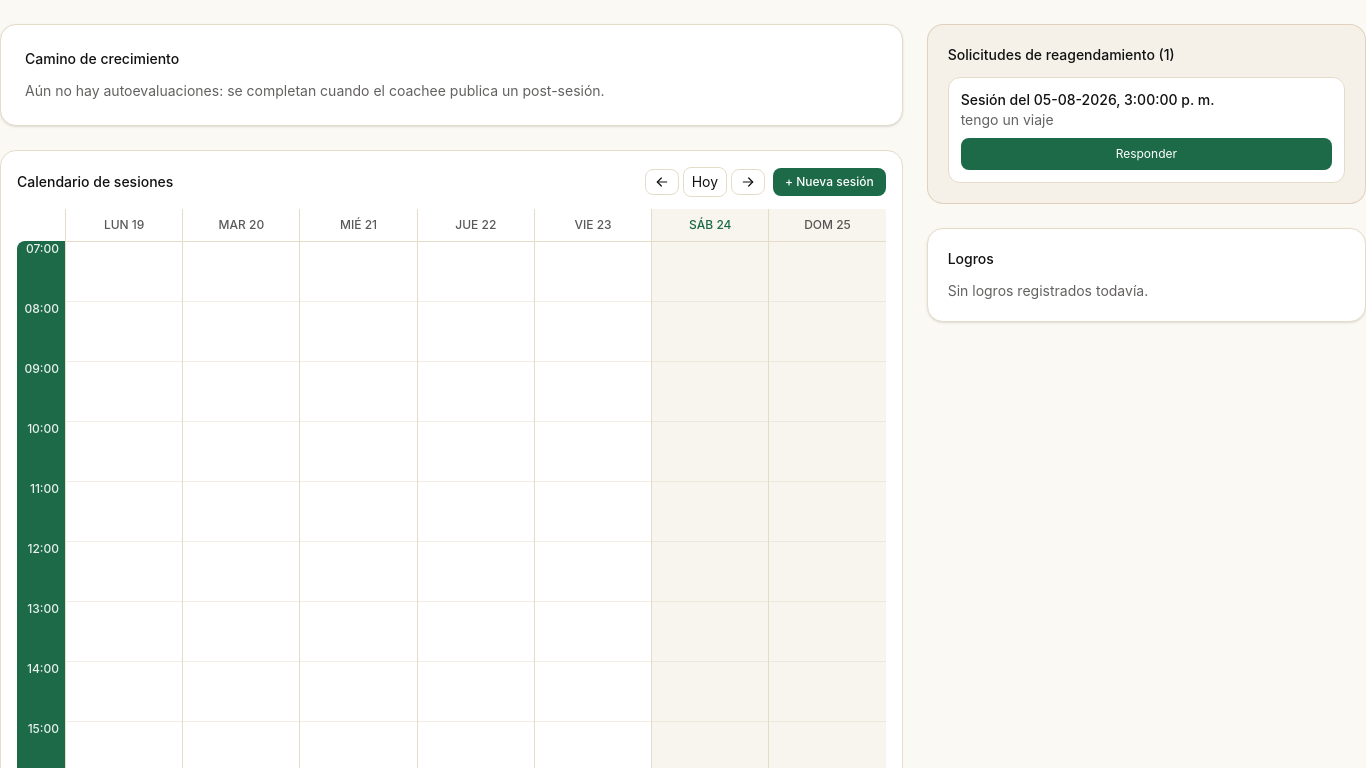
Test case: SesionesTab — solicitudes de reagendamiento › responds to a request and removes it from the list
The width and height of the screenshot is (1366, 768).
Click the button "Responder". click: (1146, 154)
box: [961,138,1332,170]
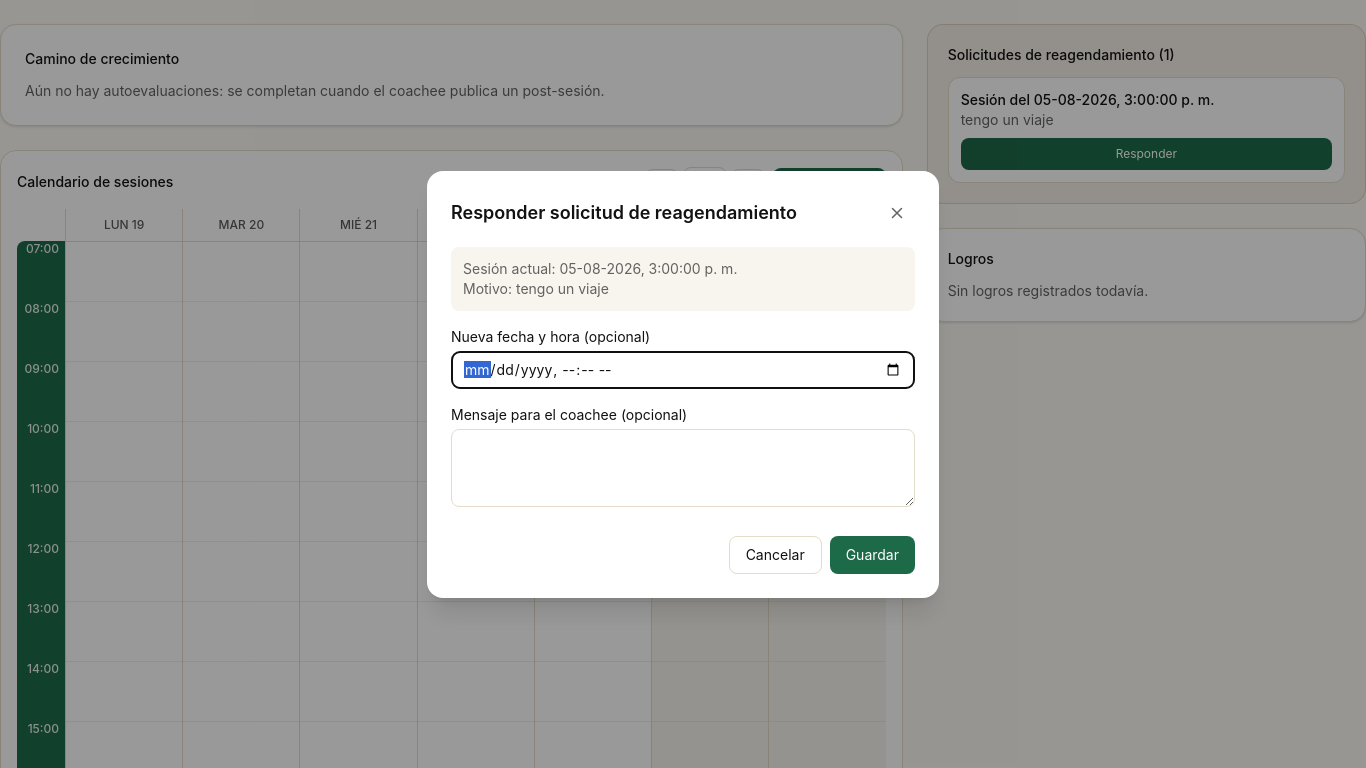
Type "Nos vemos el jueves" into the text box labelled "Mensaje para el coachee (opcional)". click: (683, 468)
box: [451,428,915,506]
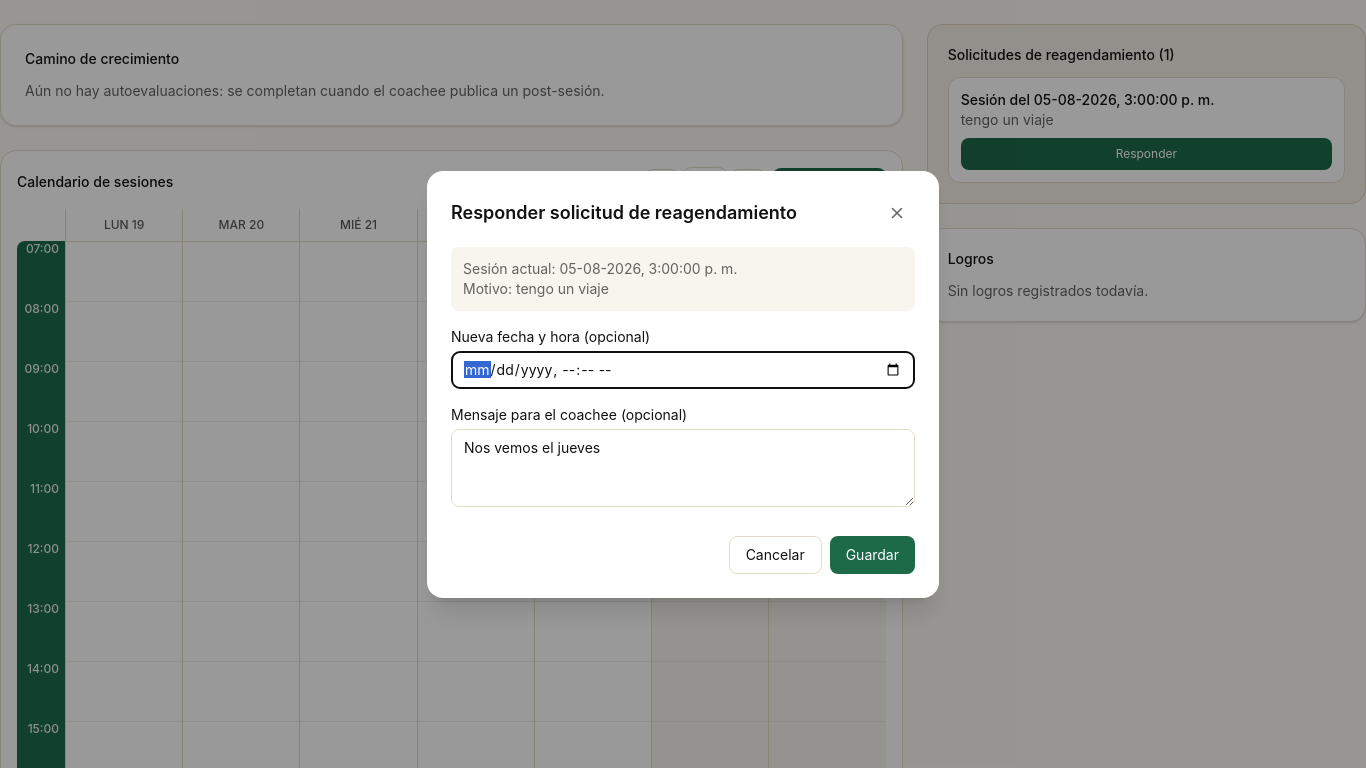
Submit the form, box [451,246,915,574]
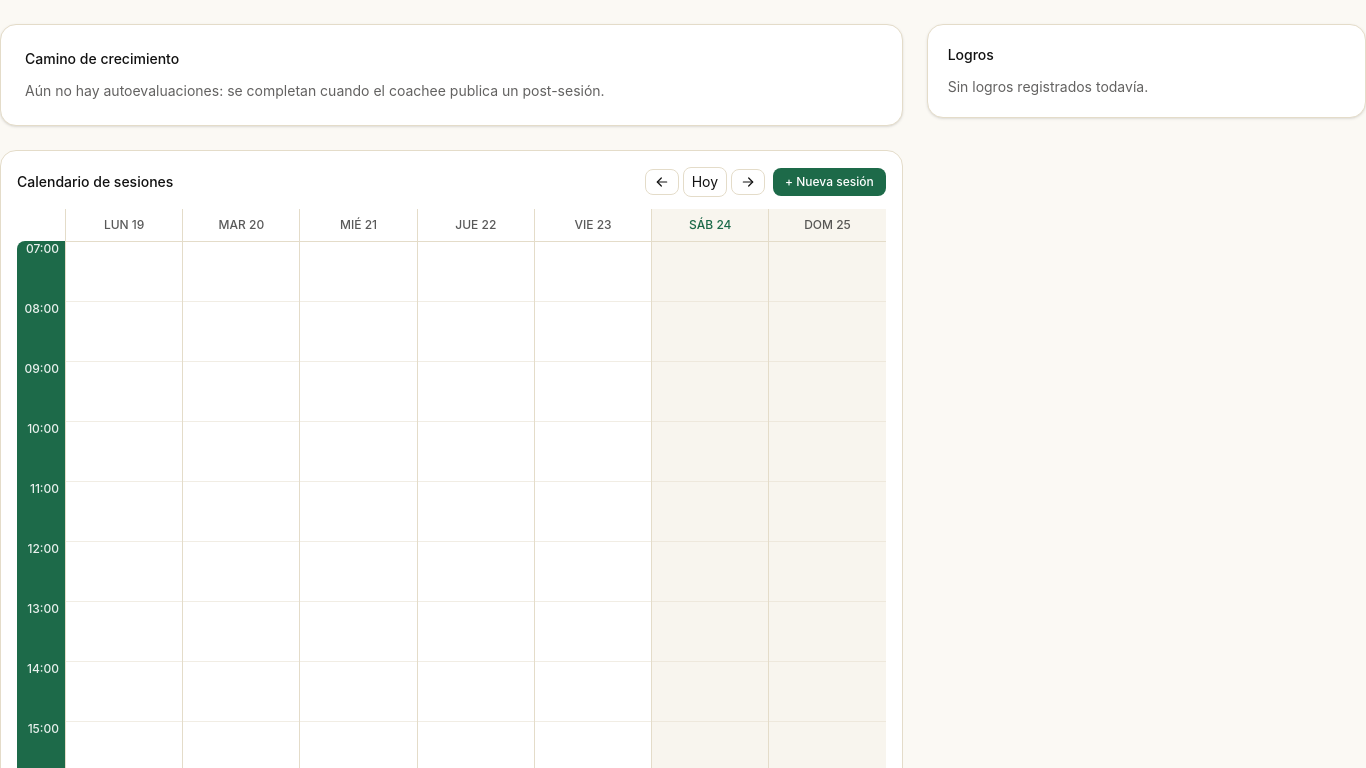
Check: the text "Solicitudes de reagendamiento" is gone
